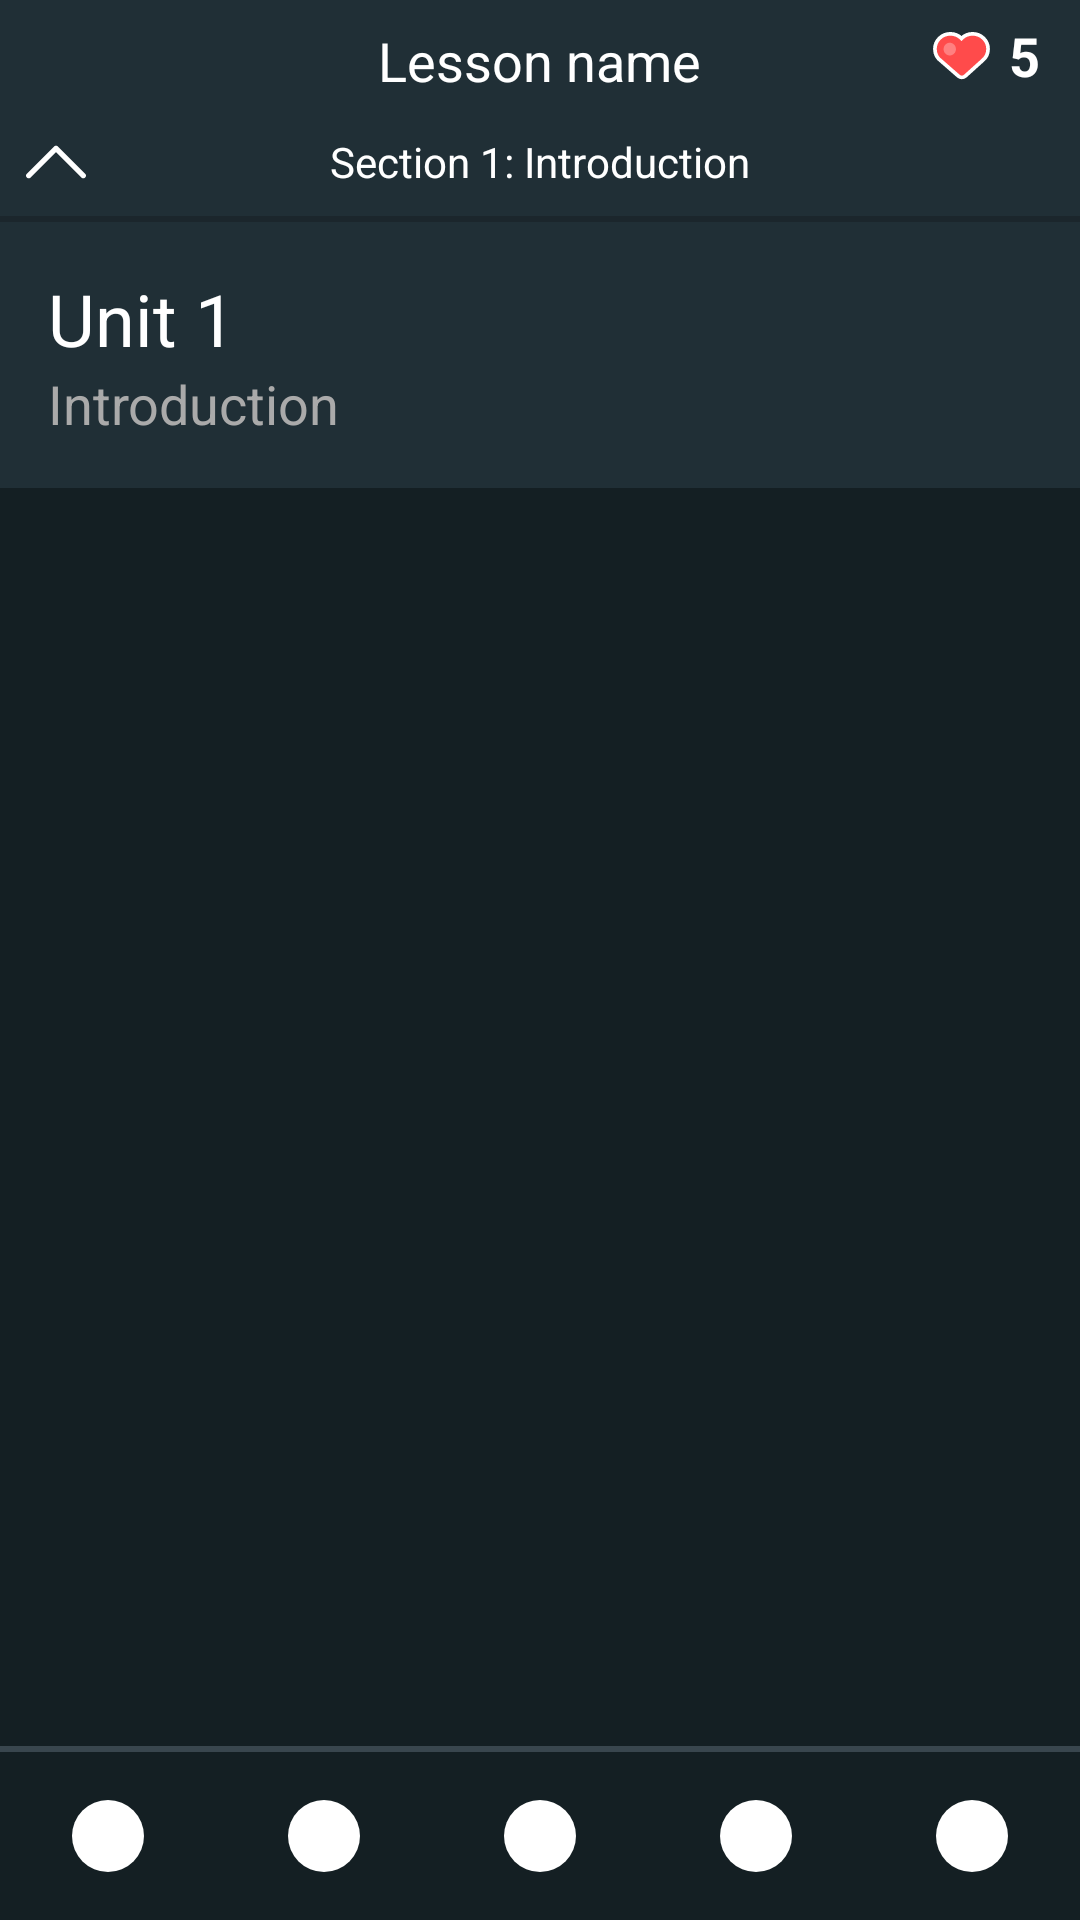

Point at icon controls on the screen. Image size 1080 x 1920, points as point (x, y).
hearth: point (961, 56)
top arrow: point (56, 162)
